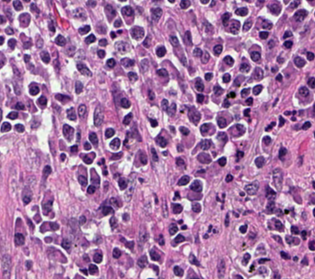nucleus: (124, 173, 134, 201), (188, 107, 200, 124), (272, 168, 281, 189), (130, 26, 144, 39), (77, 63, 91, 76), (94, 106, 103, 126), (115, 41, 129, 53), (230, 124, 244, 136), (63, 124, 73, 140), (245, 182, 258, 194), (90, 168, 99, 185), (139, 226, 147, 244), (217, 259, 225, 277), (253, 67, 263, 80), (197, 153, 210, 163), (190, 180, 201, 191), (29, 83, 39, 95), (82, 153, 94, 163), (177, 175, 189, 185), (273, 219, 283, 231), (137, 255, 147, 267), (166, 103, 175, 116), (266, 186, 275, 199), (286, 235, 299, 244), (55, 94, 69, 102), (139, 150, 147, 164), (43, 200, 51, 214), (156, 136, 166, 147), (200, 139, 211, 149), (40, 51, 49, 63), (121, 58, 133, 67), (67, 108, 76, 120), (150, 248, 159, 260), (195, 78, 203, 91), (89, 132, 97, 145), (55, 35, 65, 45), (250, 51, 260, 61), (294, 57, 304, 67), (120, 98, 130, 108), (172, 203, 182, 213), (189, 255, 199, 265), (173, 266, 183, 276), (234, 75, 243, 86), (37, 96, 46, 107), (123, 113, 132, 124), (200, 123, 209, 134), (110, 138, 119, 149), (255, 156, 264, 167), (118, 178, 127, 189), (61, 239, 70, 250), (184, 31, 191, 45), (151, 147, 158, 161), (143, 35, 151, 47), (201, 51, 209, 63), (266, 200, 274, 212), (78, 104, 85, 117), (85, 34, 95, 43), (213, 44, 222, 54), (156, 46, 165, 56), (223, 56, 233, 65), (127, 72, 137, 81), (214, 85, 223, 95), (217, 117, 226, 127), (179, 126, 189, 135), (218, 132, 227, 142), (174, 234, 184, 243), (88, 264, 97, 274), (257, 266, 267, 275), (170, 35, 178, 46), (78, 175, 86, 186), (242, 253, 250, 264), (141, 59, 148, 71), (75, 81, 82, 93), (43, 166, 50, 178), (240, 63, 249, 72), (253, 85, 262, 94), (299, 87, 308, 96), (265, 121, 274, 130), (105, 128, 114, 137), (157, 68, 167, 76), (102, 206, 112, 214), (169, 224, 177, 234), (112, 248, 120, 258), (161, 99, 168, 110), (279, 147, 286, 158), (111, 152, 122, 159), (110, 217, 117, 228), (193, 48, 202, 56), (107, 58, 115, 67), (110, 198, 119, 206), (192, 203, 200, 212), (280, 251, 289, 259), (93, 253, 101, 262), (308, 77, 314, 88), (284, 40, 292, 48), (241, 88, 249, 96), (263, 136, 271, 144), (176, 157, 184, 165), (87, 185, 95, 193), (273, 235, 281, 243), (223, 73, 230, 82), (260, 31, 268, 38), (283, 31, 291, 38), (302, 122, 310, 129), (218, 157, 225, 165), (291, 226, 298, 234), (125, 241, 133, 248), (268, 39, 274, 48), (148, 90, 154, 99), (37, 37, 42, 47), (279, 116, 284, 126), (309, 240, 314, 250), (258, 258, 268, 263), (97, 50, 104, 57), (205, 73, 212, 80), (150, 119, 157, 126), (70, 145, 77, 152), (239, 225, 246, 232), (307, 52, 313, 60), (197, 94, 203, 102), (237, 151, 243, 159), (224, 214, 228, 226), (79, 216, 85, 224), (163, 201, 166, 216), (301, 230, 306, 239), (158, 235, 163, 244), (99, 39, 106, 45), (246, 97, 252, 104), (223, 100, 229, 107), (84, 142, 90, 149), (226, 174, 232, 181), (152, 266, 158, 273), (276, 74, 281, 81), (228, 92, 235, 97), (244, 109, 249, 116), (60, 153, 65, 160), (123, 213, 128, 220), (110, 32, 115, 38), (277, 57, 283, 62), (177, 145, 182, 151), (45, 237, 51, 242), (302, 258, 307, 264), (81, 269, 87, 274), (35, 214, 39, 221), (233, 275, 242, 278), (170, 126, 174, 132), (103, 168, 107, 174), (99, 159, 103, 164), (84, 255, 88, 260), (284, 111, 290, 114), (272, 67, 276, 71), (163, 151, 167, 155), (182, 225, 186, 229), (293, 256, 297, 260), (208, 225, 211, 230), (274, 274, 279, 277), (312, 181, 314, 187), (175, 192, 178, 196), (240, 192, 244, 195)
